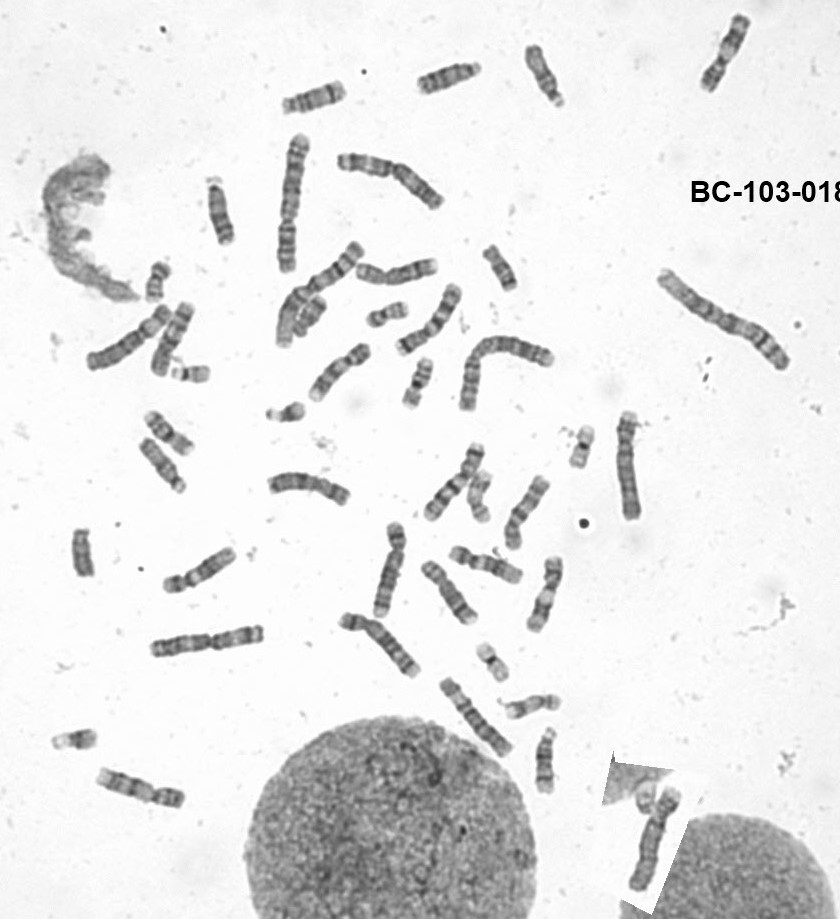chromosomes: (650, 264, 801, 377), (276, 241, 369, 351), (458, 329, 557, 414), (76, 300, 175, 379), (628, 783, 695, 895), (338, 609, 429, 690), (437, 675, 515, 768), (333, 149, 445, 212), (416, 437, 490, 526), (274, 134, 316, 276), (391, 282, 468, 359), (142, 619, 271, 664), (91, 759, 189, 815), (697, 12, 754, 101), (302, 341, 376, 408), (416, 555, 481, 630), (502, 469, 553, 558), (611, 410, 646, 526), (370, 514, 408, 620), (162, 544, 242, 593), (151, 297, 197, 380), (449, 545, 528, 593), (133, 440, 192, 504), (525, 554, 571, 636), (260, 467, 353, 507), (520, 41, 570, 112), (142, 410, 201, 466), (281, 75, 351, 120), (353, 254, 442, 289), (412, 60, 488, 98), (205, 173, 240, 250), (480, 242, 524, 293), (401, 354, 438, 413), (44, 723, 107, 757), (144, 252, 177, 314), (533, 726, 562, 796), (498, 692, 567, 718), (290, 296, 331, 339), (472, 645, 513, 687), (465, 468, 494, 526), (70, 521, 97, 582), (259, 400, 310, 428), (569, 425, 597, 475), (630, 773, 659, 818), (368, 299, 410, 330), (169, 362, 214, 386)
